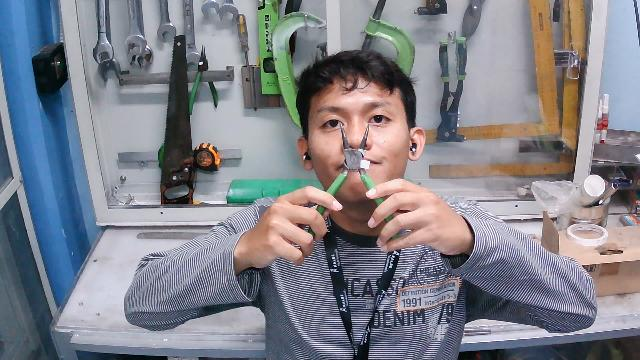tang_cucut_lancip_1: (294, 115, 405, 238)
